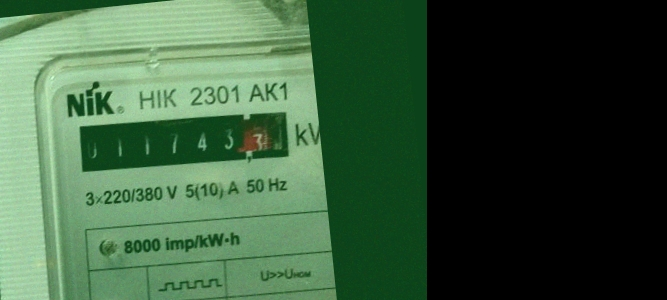0: (83, 133, 99, 161)
1: (110, 130, 126, 159), (138, 128, 153, 158)
3: (219, 124, 235, 152), (248, 131, 266, 153)
4: (193, 128, 209, 154)
7: (165, 129, 181, 155)
screen: (68, 99, 300, 185)
